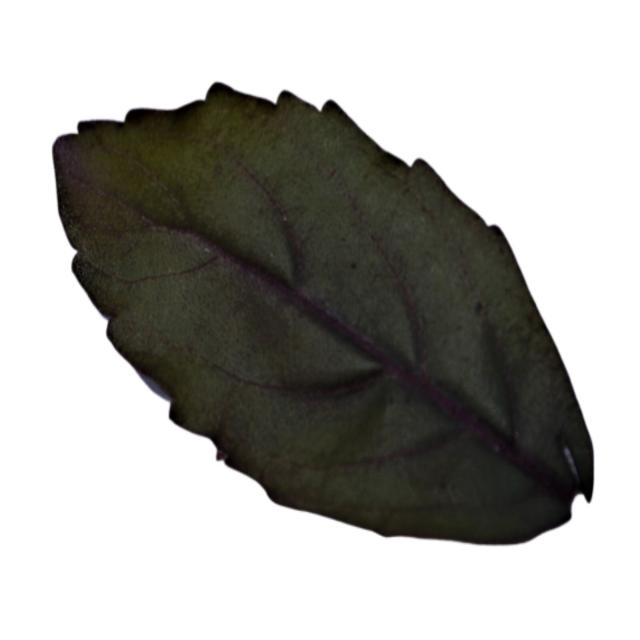tulsi: (46, 77, 598, 550)
